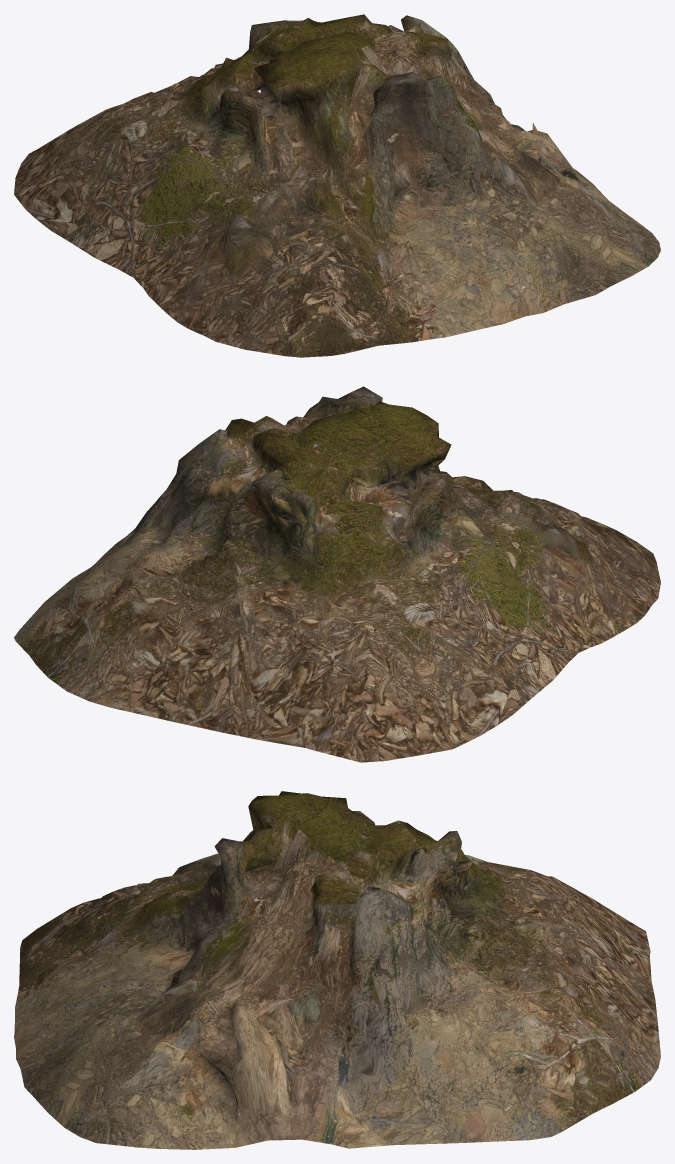
Rendered from SM_Stump.fbx.
3 views of the same model, one above another, from view 1: azimuth 30°, elevation 25°; view 2: azimuth 150°, elevation 25°; view 3: azimuth 270°, elevation 25° (orthographic). The views are drawn at different scales.
Parts seen in each view (by area): view 1: SM_Stump; view 2: SM_Stump; view 3: SM_Stump.
Part boxes in pixels (<box>): SM_Stump: <box>14,14,660,357</box>; SM_Stump: <box>14,386,660,762</box>; SM_Stump: <box>14,791,660,1149</box>.
Bounding box in the file's own units: 0.8942 × 0.3594 × 1.
